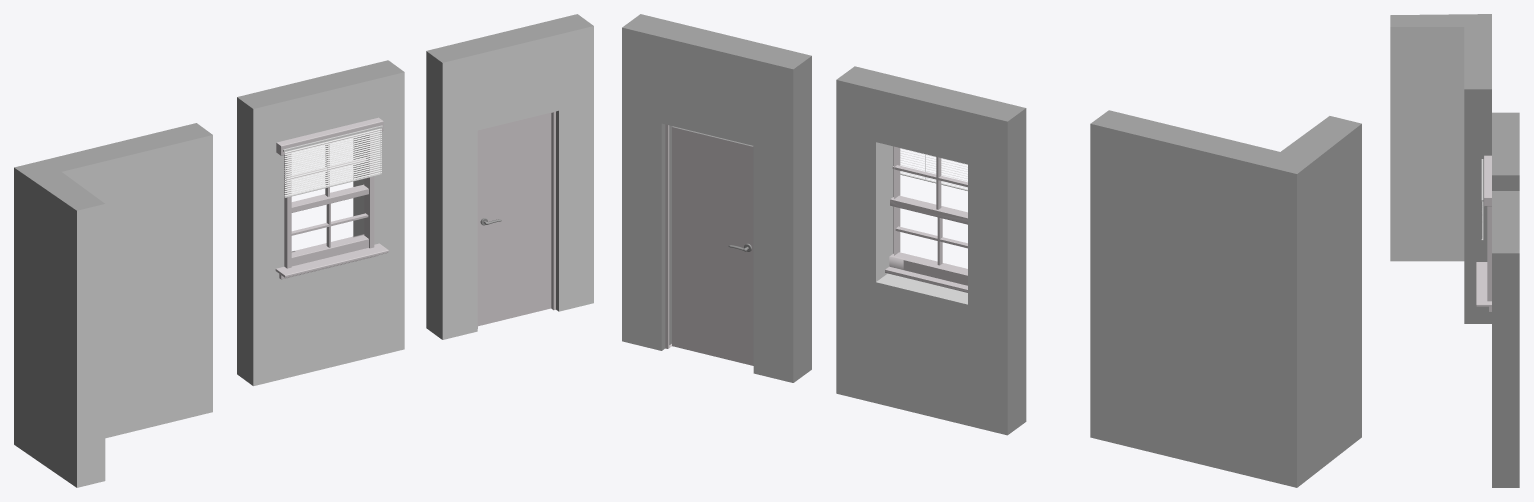
Rendered from CamlveKaplDuvar.fbx.
The picture shows the model from 3 angles, left to right: view 1: azimuth 30°, elevation 25°; view 2: azimuth 150°, elevation 25°; view 3: azimuth 270°, elevation 25°; orthographic projection. The views are drawn at different scales.
Parts seen in each view (by area): view 1: Duvar_Köşe, Duvar_Pencere, Duvar_Kapı, Duvar_Düz, Kapı, Pencere, Perde; view 2: Duvar_Köşe, Duvar_Pencere, Duvar_Kapı, Duvar_Düz, Kapı, Pencere; view 3: Duvar_Köşe, Duvar_Kapı, Duvar_Düz, Duvar_Pencere, Pencere, Perde.
Part boxes in pixels (<box>): Duvar_Köşe: <box>14,141,137,487</box>; Duvar_Pencere: <box>237,60,404,386</box>; Duvar_Kapı: <box>426,14,593,339</box>; Duvar_Düz: <box>121,123,212,430</box>; Kapı: <box>478,113,551,326</box>; Pencere: <box>275,117,388,279</box>; Perde: <box>283,125,382,197</box>; Duvar_Köşe: <box>1176,116,1361,487</box>; Duvar_Pencere: <box>836,66,1026,435</box>; Duvar_Kapı: <box>622,14,811,382</box>; Duvar_Düz: <box>1090,110,1194,458</box>; Kapı: <box>672,126,753,365</box>; Pencere: <box>885,146,967,292</box>; Duvar_Köşe: <box>1390,14,1491,261</box>; Duvar_Kapı: <box>1492,191,1519,487</box>; Duvar_Düz: <box>1464,58,1491,323</box>; Duvar_Pencere: <box>1492,112,1519,190</box>; Pencere: <box>1476,155,1491,311</box>; Perde: <box>1481,159,1483,240</box>.
Size of the model in its own units: 1532 by 700 by 350.
